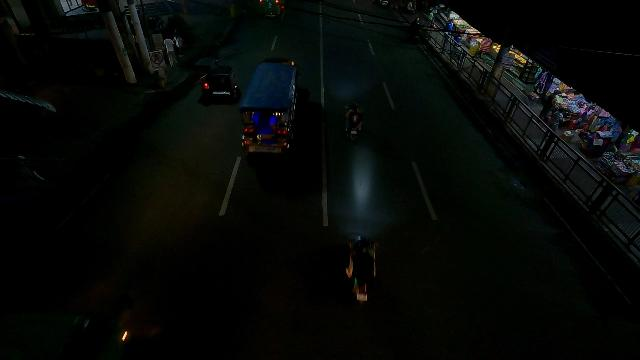jeepney: (242, 56, 299, 161)
